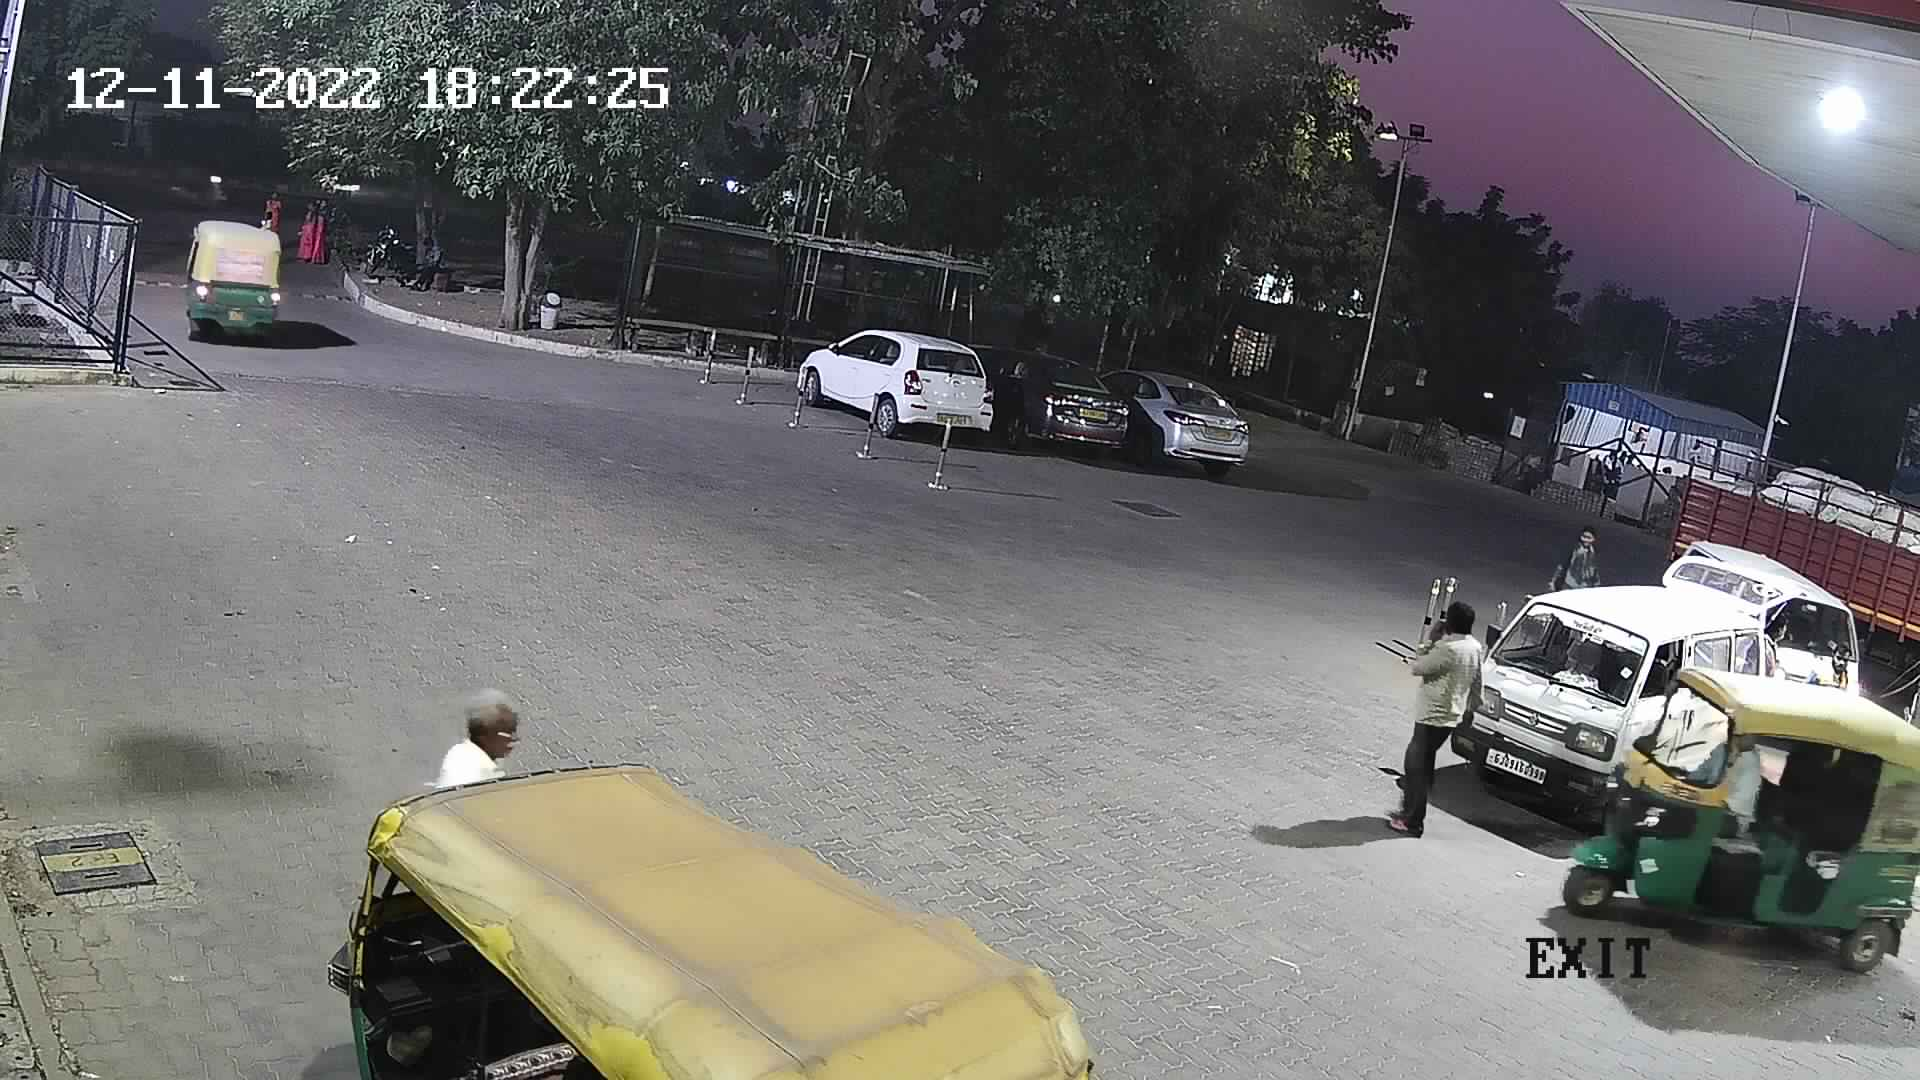Auto: (319, 746, 1117, 1076), (1553, 659, 1917, 978), (179, 198, 307, 347)
Bike: (351, 214, 423, 295)
Car: (1443, 549, 1824, 837), (1665, 535, 1869, 702), (785, 323, 1002, 450), (957, 330, 1134, 467), (1095, 353, 1259, 488)
HMV: (1634, 419, 1915, 704)
